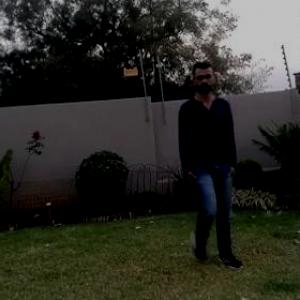follow: (158, 56, 231, 272)
